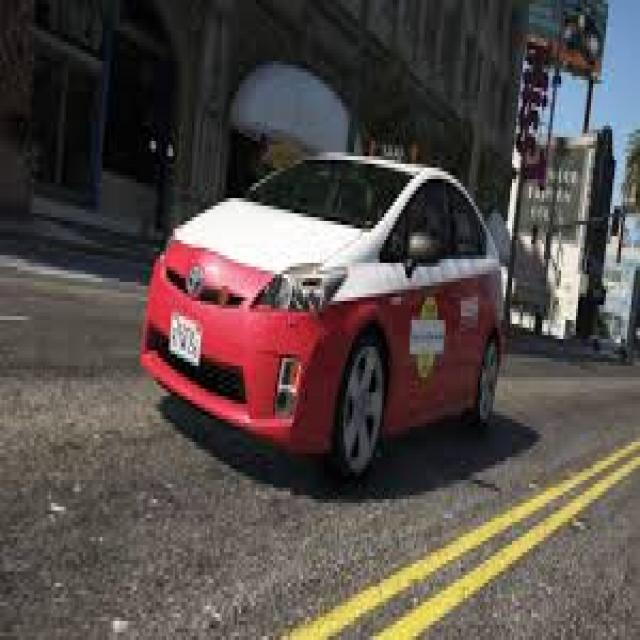car-plate: (168, 308, 205, 366)
